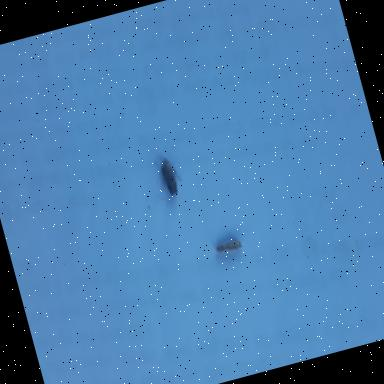pbw: (156, 151, 182, 196), (208, 234, 245, 260)
